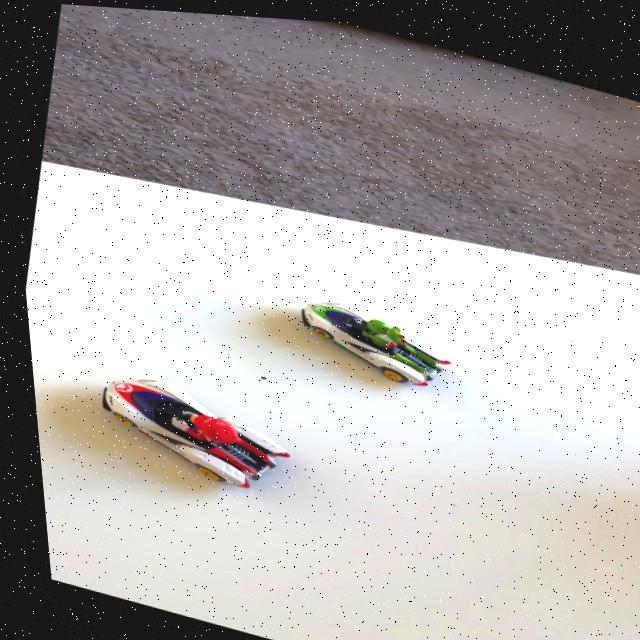mario: (67, 367, 311, 510)
yoshi: (272, 282, 469, 401)
